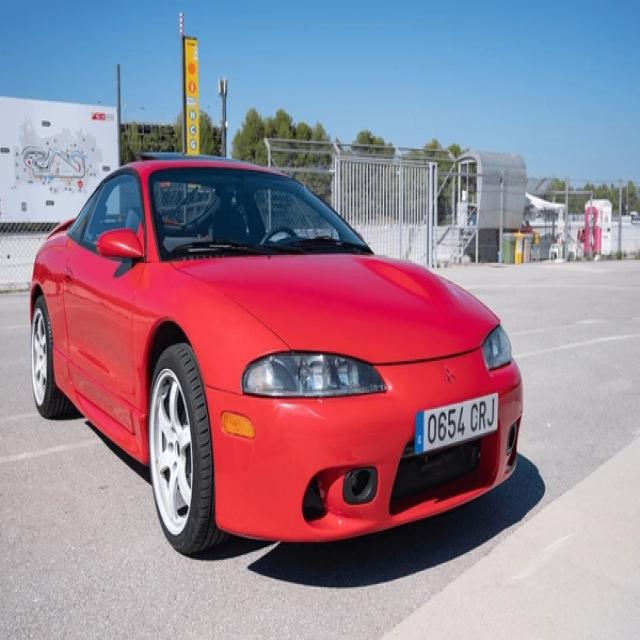mitsubishi: (441, 362, 460, 389)
